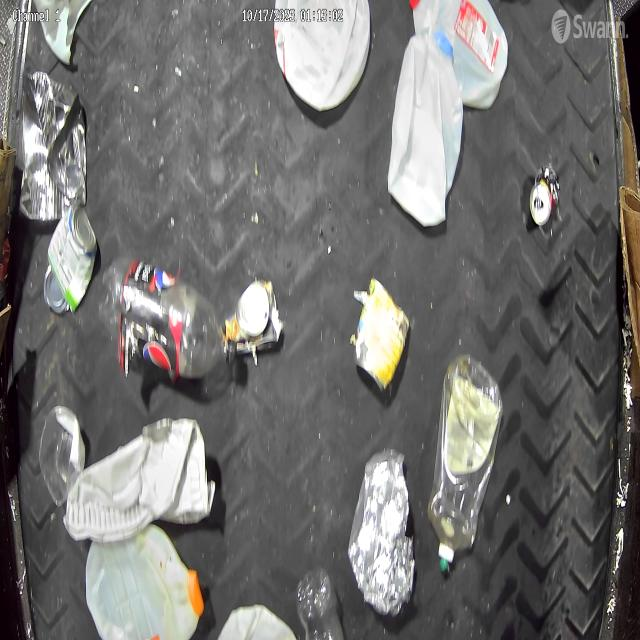can: (43, 198, 99, 317), (355, 279, 409, 390), (230, 277, 280, 351), (528, 162, 562, 230)
milk_jug: (388, 34, 464, 229), (87, 526, 201, 640), (409, 0, 508, 112)
plastic_bottle: (100, 257, 232, 380)
